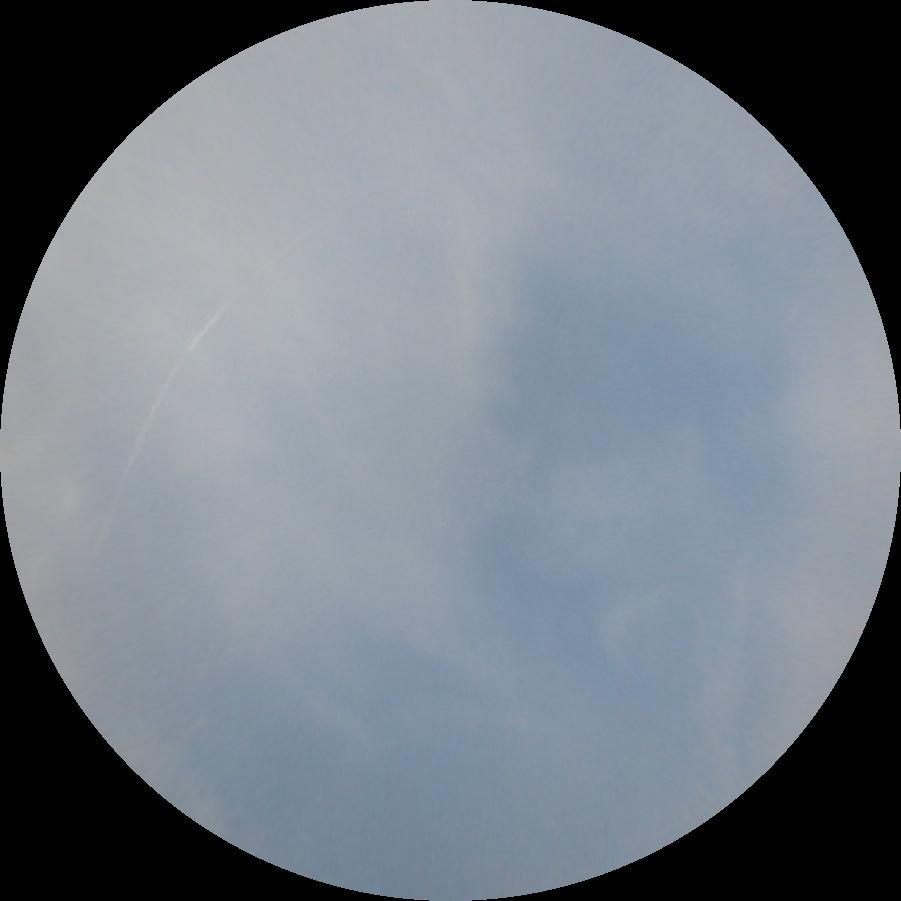contrail young: (53, 154, 378, 551)
